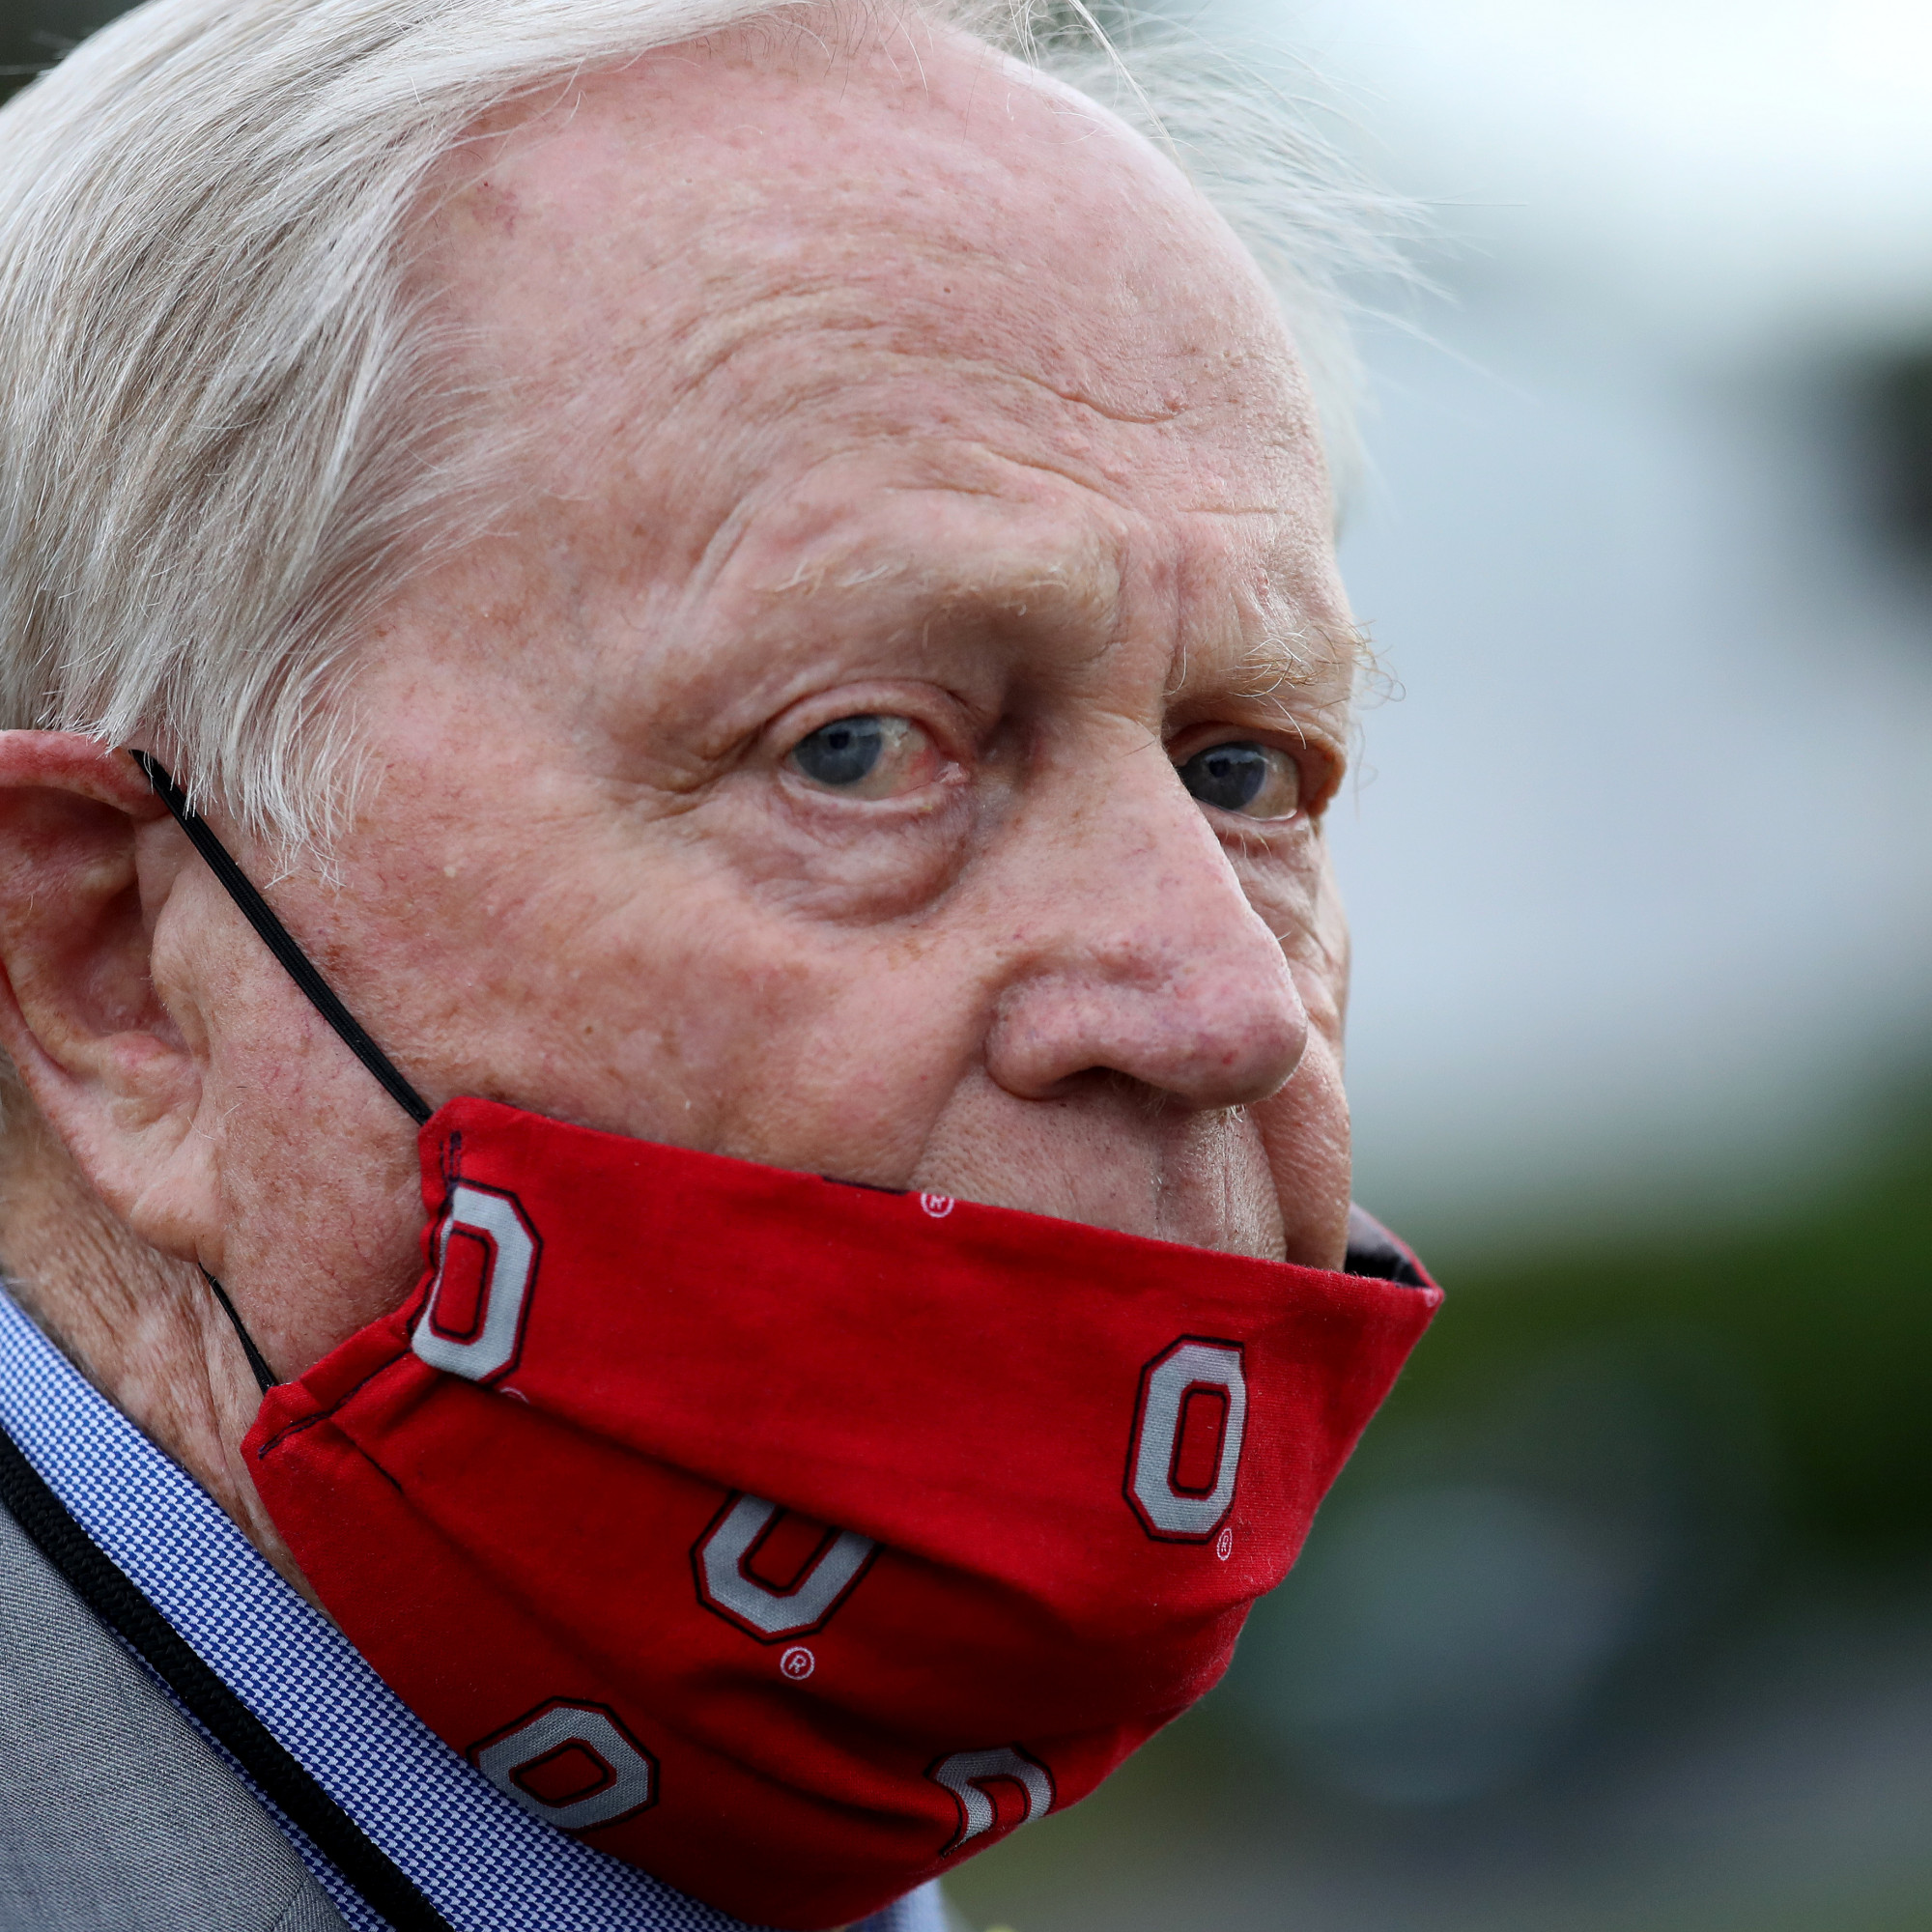with_incorrect_mask: (1, 10, 1447, 1919)
